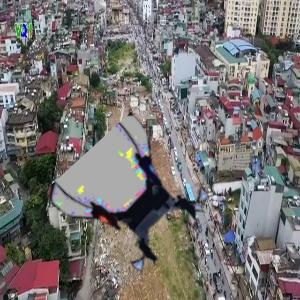drone: (69, 133, 203, 267)
